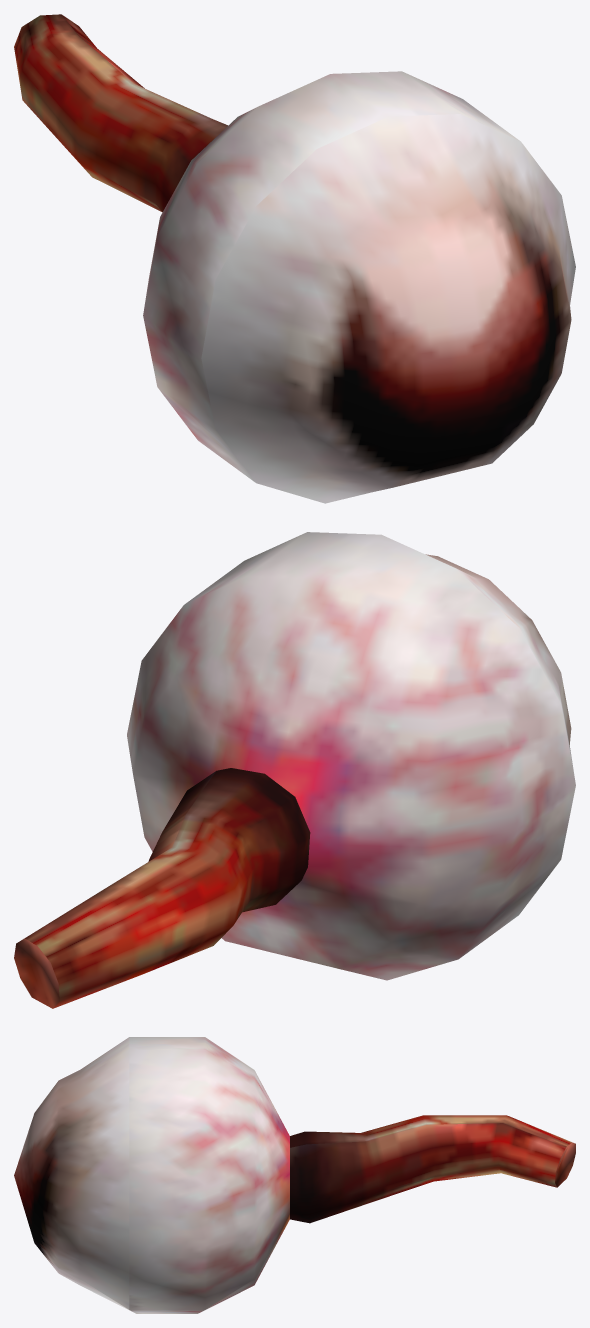
Rendered from Hell eye.obj.
The picture shows the model from 3 angles, top to bottom: view 1: azimuth 30°, elevation 25°; view 2: azimuth 150°, elevation 25°; view 3: azimuth 270°, elevation 25°; orthographic projection. The views are drawn at different scales.
Visible parts, largest first — view 1: Mesh_0347.rip.013; view 2: Mesh_0347.rip.013; view 3: Mesh_0347.rip.013.
Part boxes in pixels (bbox=[...]): Mesh_0347.rip.013: bbox=[14, 14, 575, 503]; Mesh_0347.rip.013: bbox=[14, 532, 575, 1008]; Mesh_0347.rip.013: bbox=[14, 1037, 575, 1313].
Size of the model in its own units: 0.4619 by 0.4442 by 0.9216.
